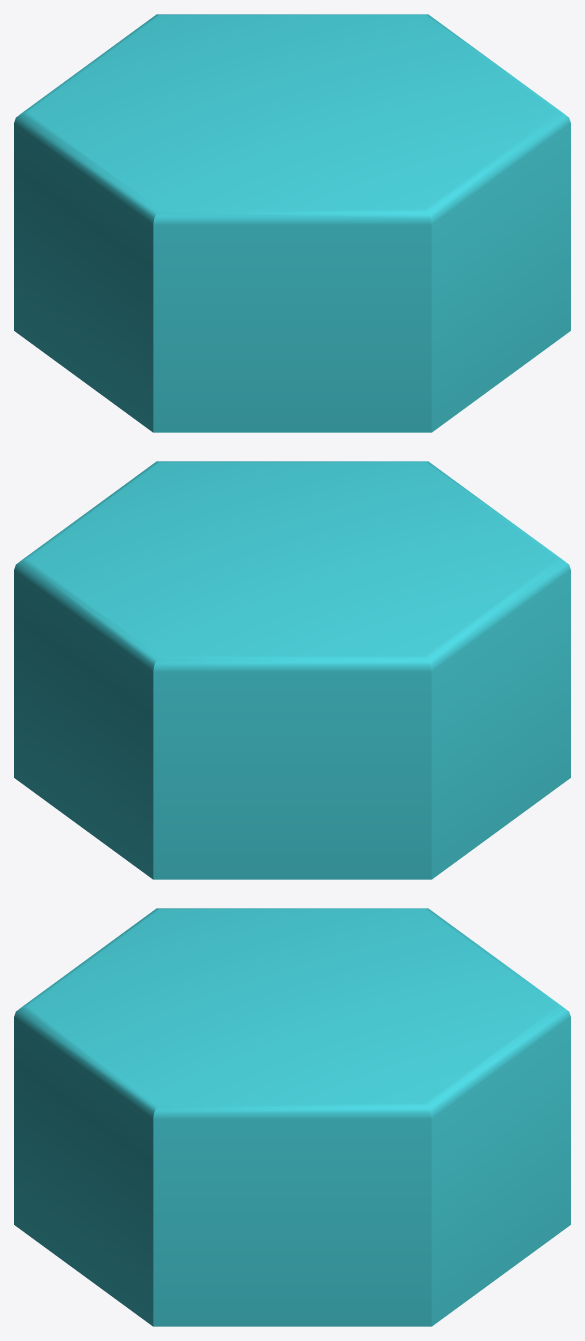
File: hex_water.glb
3 views of the same model, one above another, from view 1: azimuth 30°, elevation 25°; view 2: azimuth 150°, elevation 25°; view 3: azimuth 270°, elevation 25° (orthographic).
Parts seen in each view (by area): view 1: hex_water; view 2: hex_water; view 3: hex_water.
Boxes of the visible parts, <box> form: hex_water: <box>14,14,570,432</box>; hex_water: <box>14,461,570,879</box>; hex_water: <box>14,908,570,1326</box>.
Bounding box in the file's own units: 3.82 × 1.91 × 4.41.
